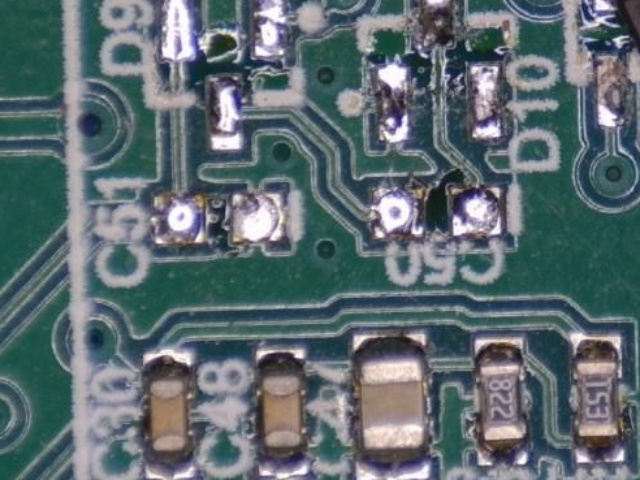pcb_defect: (592, 0, 640, 84)
